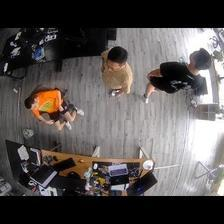normal: (143, 48, 211, 104), (23, 89, 84, 132), (98, 47, 133, 95)
